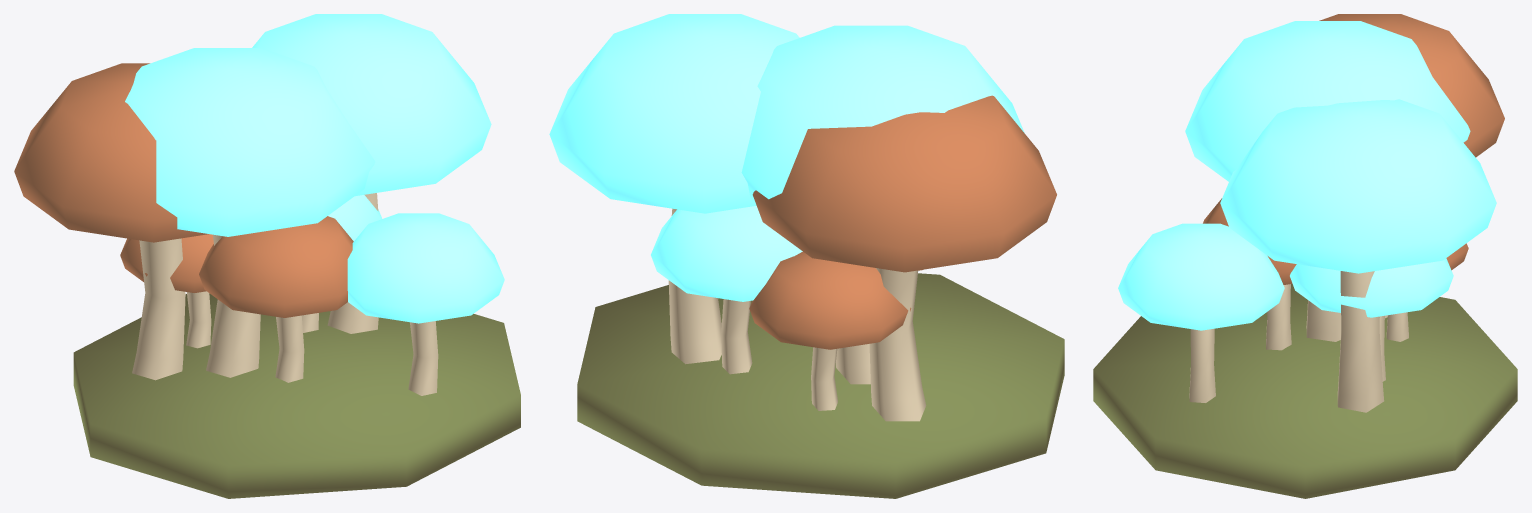
File: prop_tc_nam_phat_sang.37bf7ce78b.glb
3 views of the same model, side by side, from view 1: azimuth 30°, elevation 25°; view 2: azimuth 150°, elevation 25°; view 3: azimuth 270°, elevation 25° (orthographic). The views are drawn at different scales.
Parts seen in each view (by area): view 1: prop_tc_nam_phat_sang; view 2: prop_tc_nam_phat_sang; view 3: prop_tc_nam_phat_sang.
Boxes of the visible parts, x1,y1,x2,y2 form: prop_tc_nam_phat_sang: (14,14,520,498); prop_tc_nam_phat_sang: (549,14,1064,498); prop_tc_nam_phat_sang: (1093,14,1517,498).
Size of what is drawn, in the model's own units: 1.09 by 0.8631 by 0.9526.
